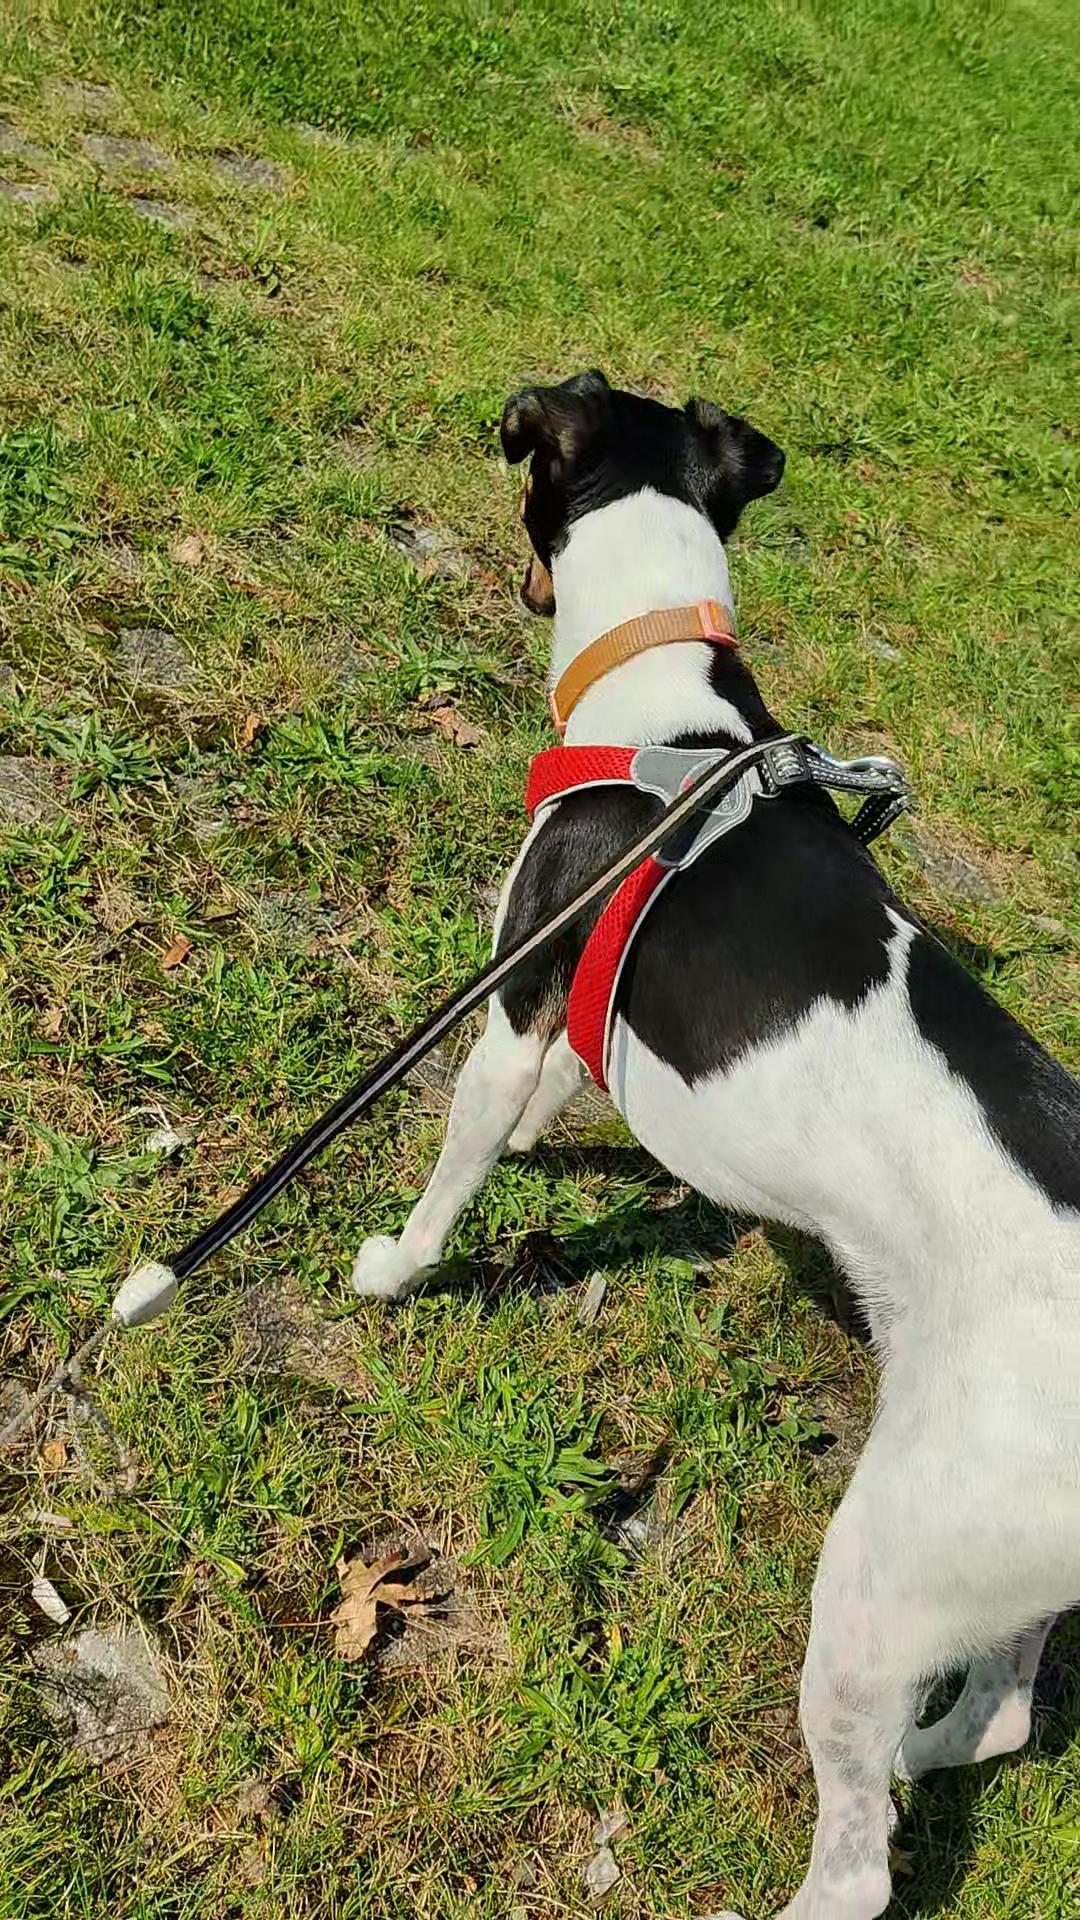Dog: (334, 351, 1079, 1919)
